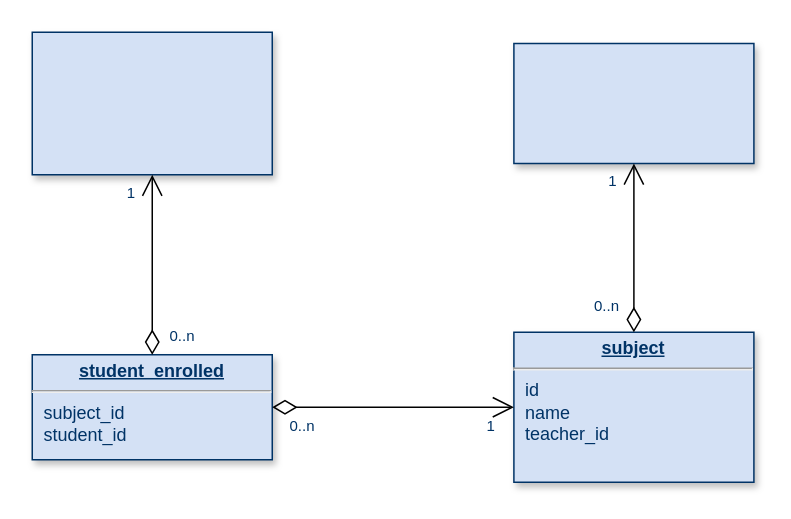
Image size: 791x519. Some labels were removed from this diagram. Here are the shapes that lost their labels. From the top down, the centre of each, then its label:
At (x=153, y=105): "student id name email birt_date".
At (x=634, y=105): "teacher id name".
